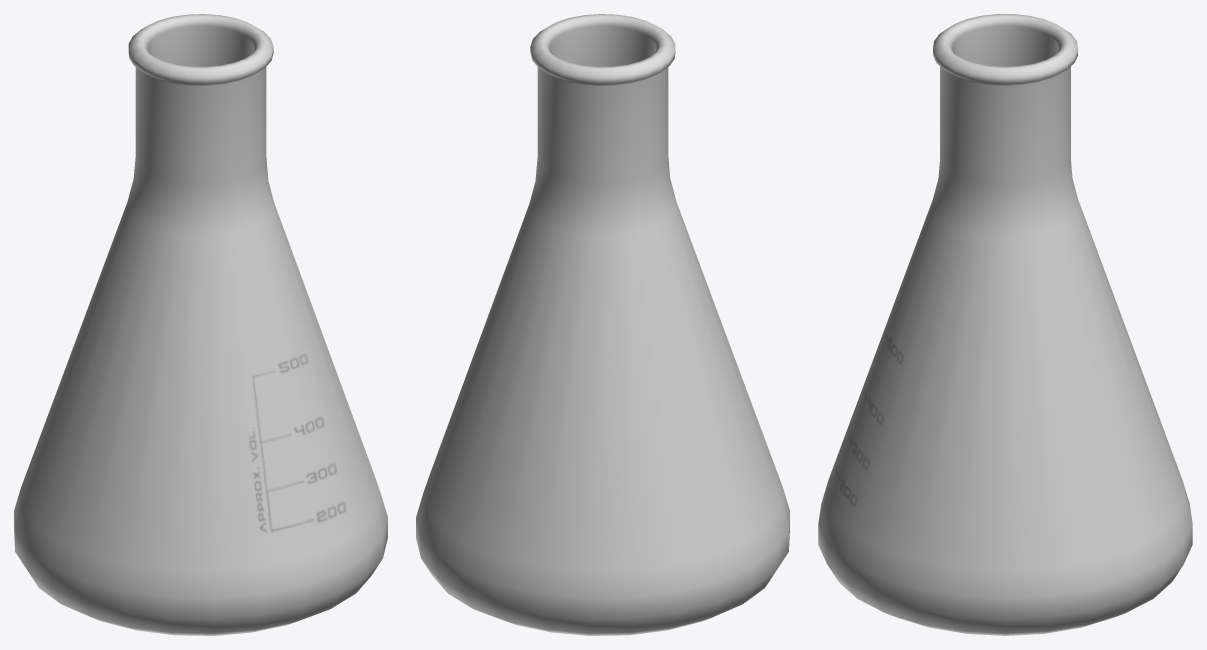
File: conical_flask_small.glb
3 views of the same model, side by side, from view 1: azimuth 30°, elevation 25°; view 2: azimuth 150°, elevation 25°; view 3: azimuth 270°, elevation 25° (orthographic).
Visible parts, largest first — view 1: Conical_flask_small_glas_0, Conical_flask_small_small_text_0; view 2: Conical_flask_small_glas_0; view 3: Conical_flask_small_glas_0, Conical_flask_small_small_text_0.
Part boxes in pixels (left/top/right/bottom): Conical_flask_small_glas_0: left=14, top=14, right=387, bottom=635; Conical_flask_small_small_text_0: left=248, top=353, right=346, bottom=532; Conical_flask_small_glas_0: left=416, top=14, right=789, bottom=635; Conical_flask_small_glas_0: left=818, top=14, right=1192, bottom=635; Conical_flask_small_small_text_0: left=836, top=327, right=903, bottom=507.
Size of the model in its own units: 22.09 by 34.46 by 22.14.
2 materials, 1 textured.
